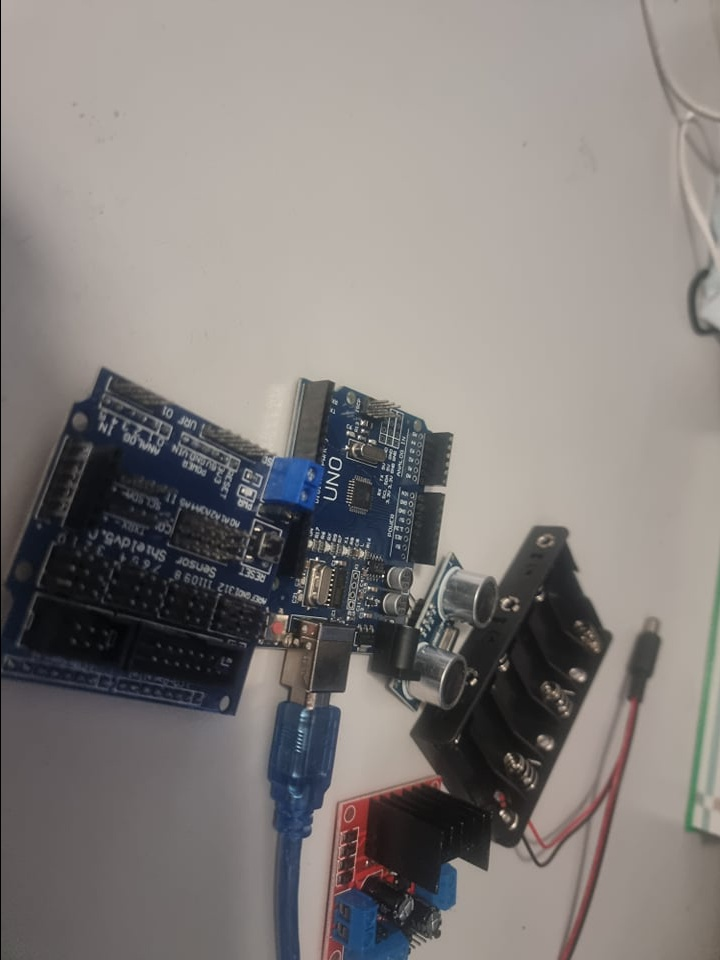5V EXPANSION: (0, 370, 320, 718)
BATTERY BOX: (410, 525, 620, 828)
MOTOR: (311, 785, 496, 960)
SENSOR: (382, 567, 501, 713)
UNO R3: (262, 386, 444, 682)
